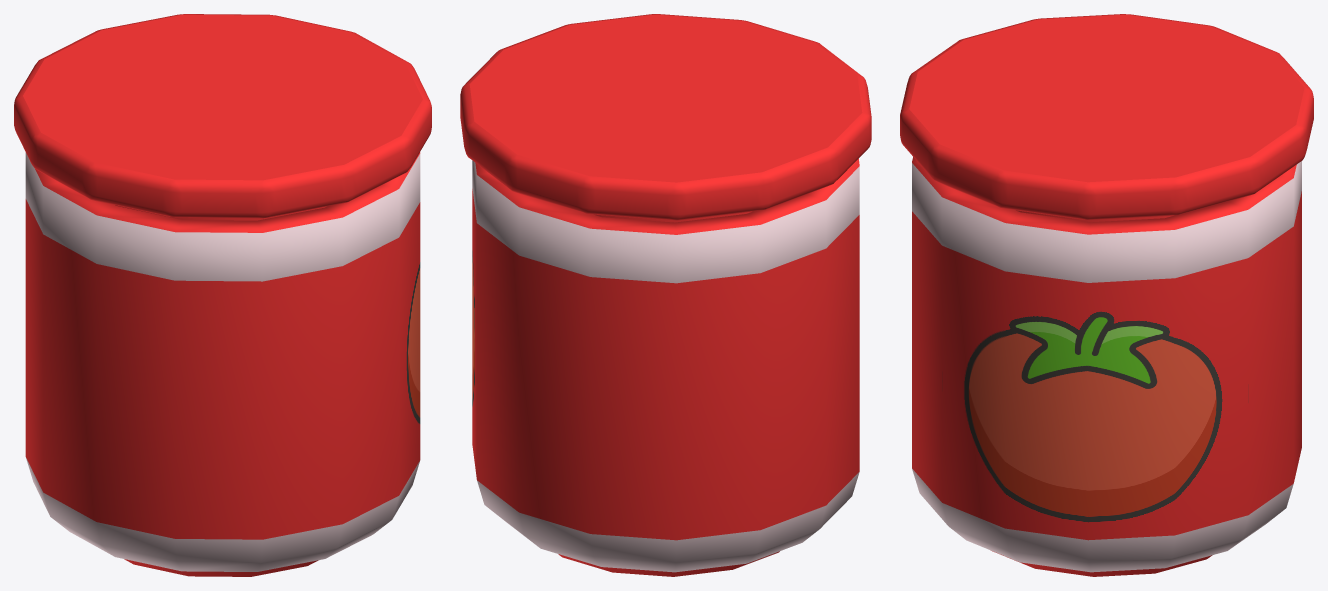
The model's file is ToplesTomat.fbx.
The picture shows the model from 3 angles, left to right: view 1: azimuth 30°, elevation 25°; view 2: azimuth 150°, elevation 25°; view 3: azimuth 270°, elevation 25°; orthographic projection.
Visible parts, largest first — view 1: ToplesTomat.005; view 2: ToplesTomat.005; view 3: ToplesTomat.005.
Part boxes in pixels (box(x1,y1,x2,y2)): ToplesTomat.005: box(14, 14, 431, 576); ToplesTomat.005: box(460, 14, 871, 576); ToplesTomat.005: box(900, 14, 1313, 576).
Size of the model in its own units: 42.17 by 47.12 by 42.05.
2 materials, 1 textured.
